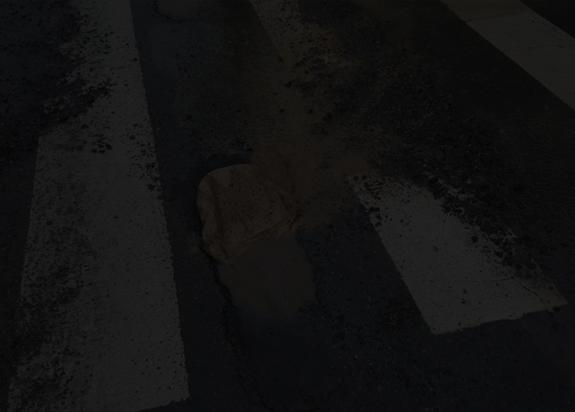pothole: (195, 114, 341, 356)
